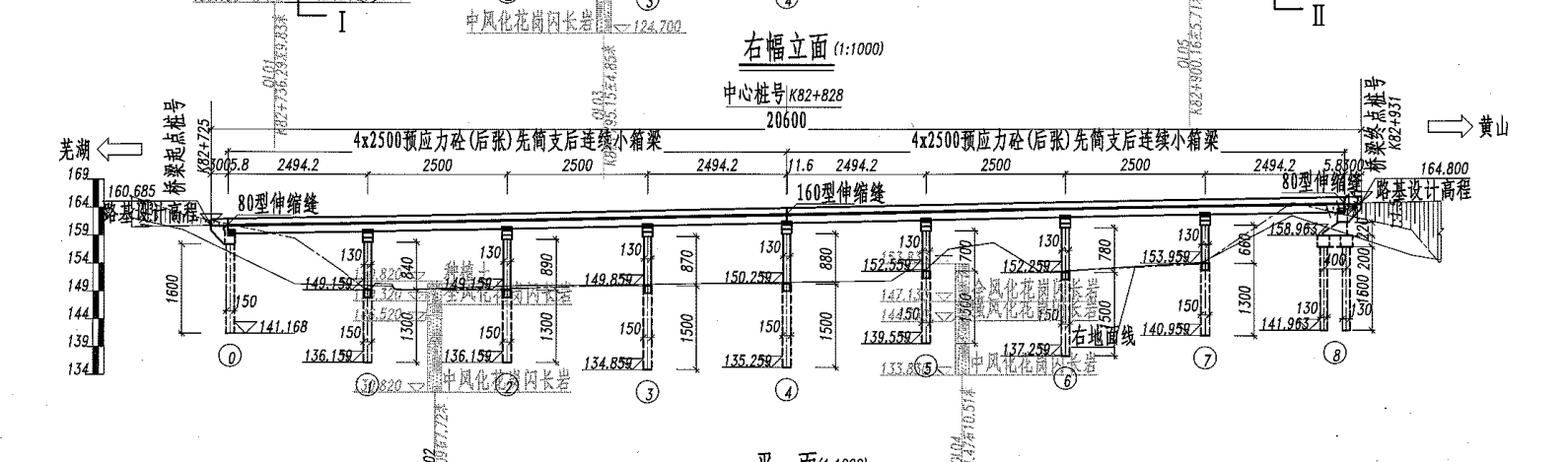B: (215, 124, 791, 165), (783, 124, 1353, 165)
C: (578, 218, 668, 408), (995, 209, 1085, 396), (719, 216, 806, 407), (1256, 217, 1364, 369), (297, 225, 385, 402), (1137, 207, 1223, 377), (859, 213, 943, 381), (450, 222, 524, 401)
